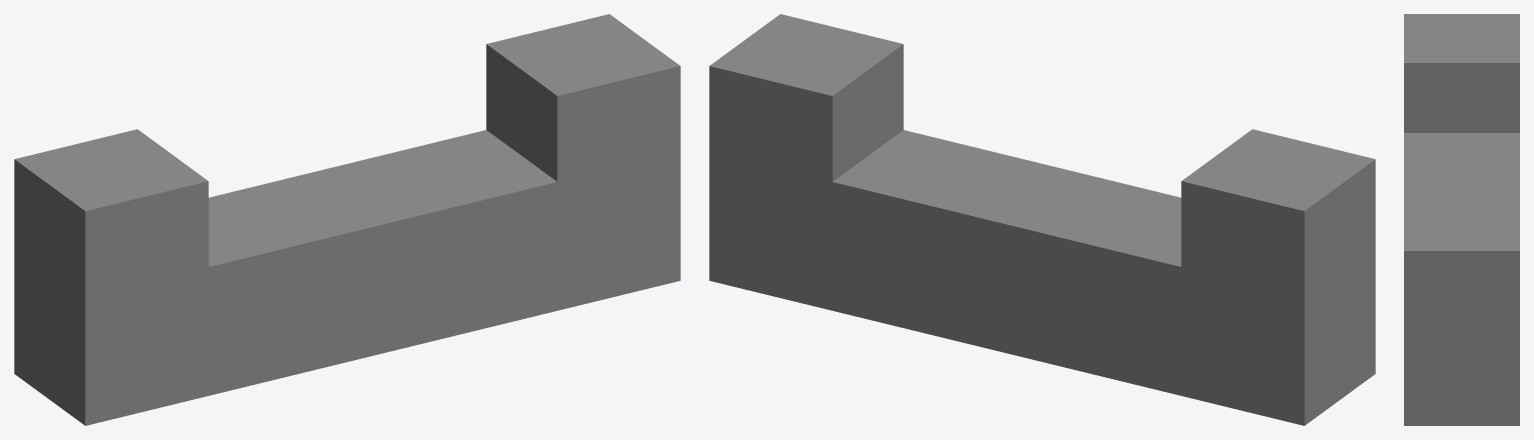
File: Connector.obj
The picture shows the model from 3 angles, left to right: view 1: azimuth 30°, elevation 25°; view 2: azimuth 150°, elevation 25°; view 3: azimuth 270°, elevation 25°; orthographic projection. The views are drawn at different scales.
Visible parts, largest first — view 1: DestroyedMetalBasinConnectorNegX_Cube.001; view 2: DestroyedMetalBasinConnectorNegX_Cube.001; view 3: DestroyedMetalBasinConnectorNegX_Cube.001.
Part boxes in pixels (x1=…): DestroyedMetalBasinConnectorNegX_Cube.001: x1=14, y1=14, x2=680, y2=425; DestroyedMetalBasinConnectorNegX_Cube.001: x1=709, y1=14, x2=1375, y2=425; DestroyedMetalBasinConnectorNegX_Cube.001: x1=1404, y1=14, x2=1519, y2=425.
Size of the model in its own units: 0.3625 by 0.125 by 0.075.
